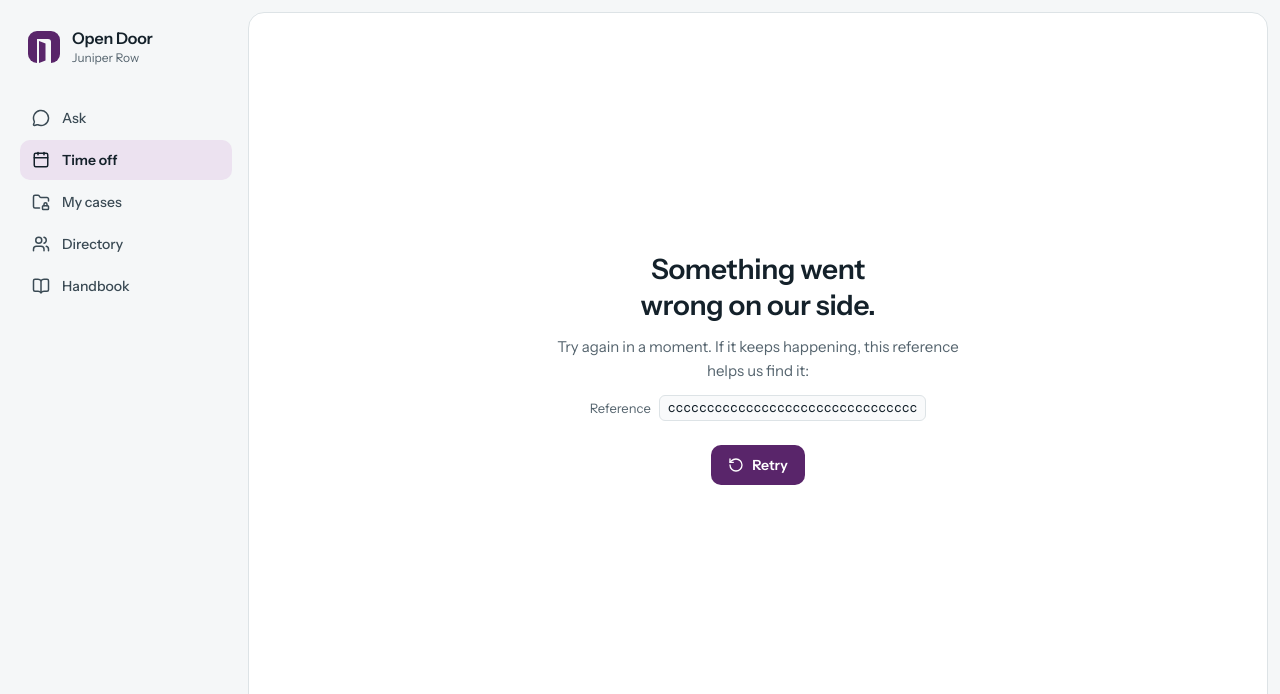
Test: Time off: loading and failing › lets a failed first load reach the global error page, with Retry
This screenshot has width=1280, height=694.
Expected: the heading "Something went wrong on our side." is shown, [640,252,876,322]
Expected: the navigation bar named "Main" is shown, [20,98,232,306]
Click the button "Retry". click: [758, 465]
box: [711,445,805,485]
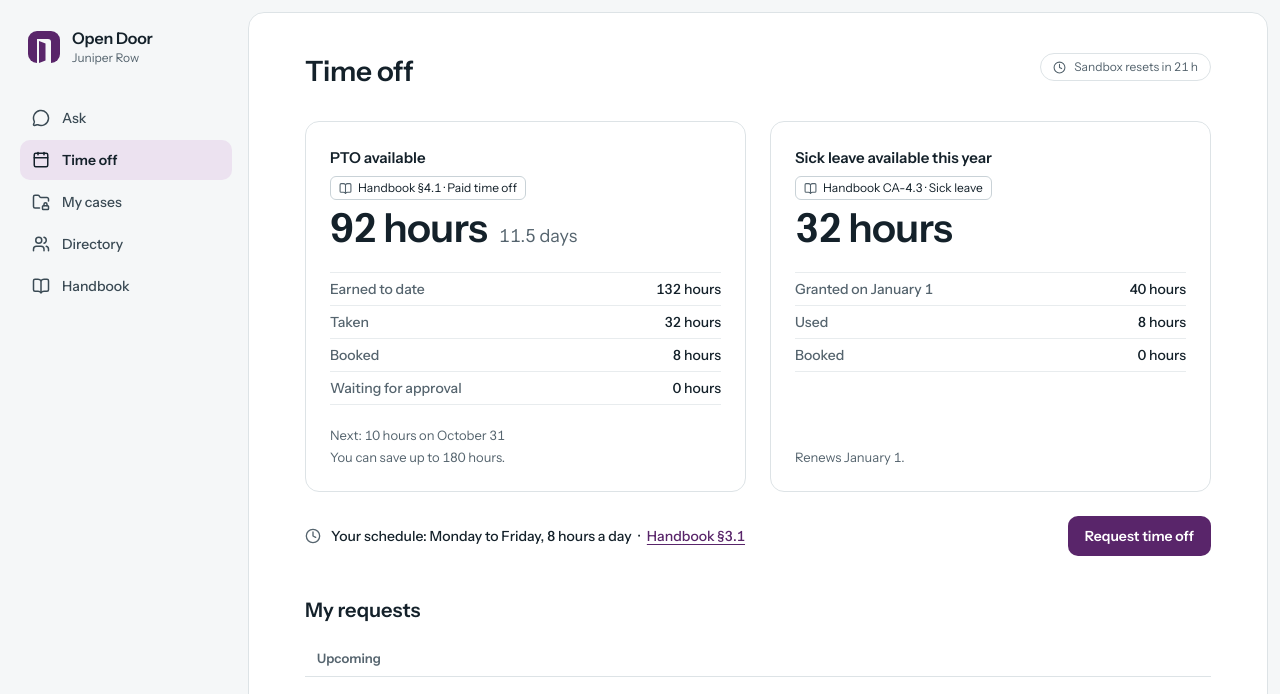
Expected: the heading "Upcoming" is shown, [305,648,1211,677]
